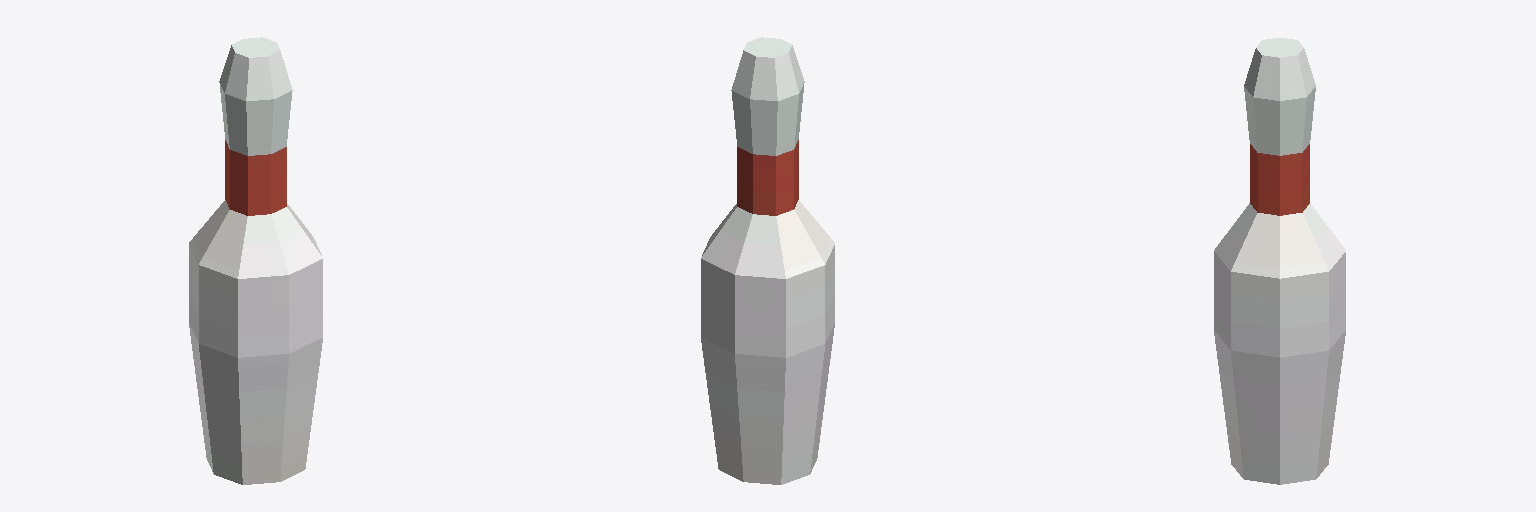
3 renders of one model, left to right at view 1: azimuth 30°, elevation 25°; view 2: azimuth 150°, elevation 25°; view 3: azimuth 270°, elevation 25°, orthographic.
Parts seen in each view (by area): view 1: BOWLING_PIN_Cube.034; view 2: BOWLING_PIN_Cube.034; view 3: BOWLING_PIN_Cube.034.
Part boxes in pixels (x1,y1,x2,y2): BOWLING_PIN_Cube.034: (189,37,322,484); BOWLING_PIN_Cube.034: (701,37,834,484); BOWLING_PIN_Cube.034: (1214,38,1345,484).
Size of the model in its own units: 0.4235 by 1.47 by 0.4235.
Materials: 2 (1 with a texture image).